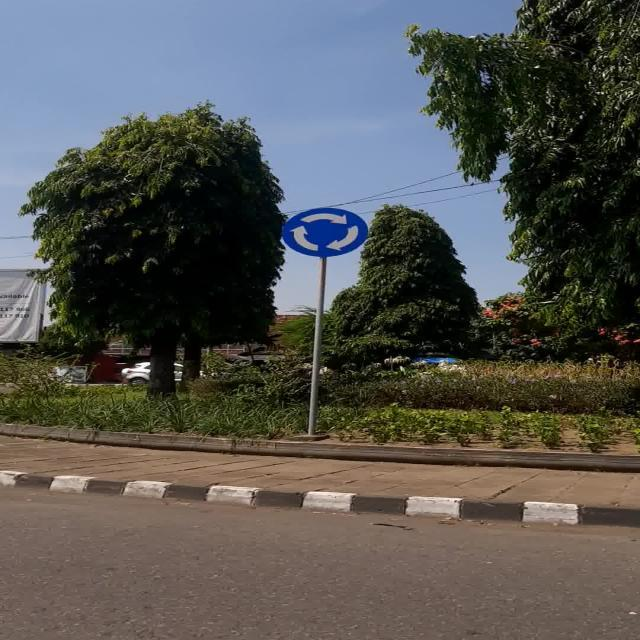Ikuti Bundaran: (282, 208, 368, 258)
